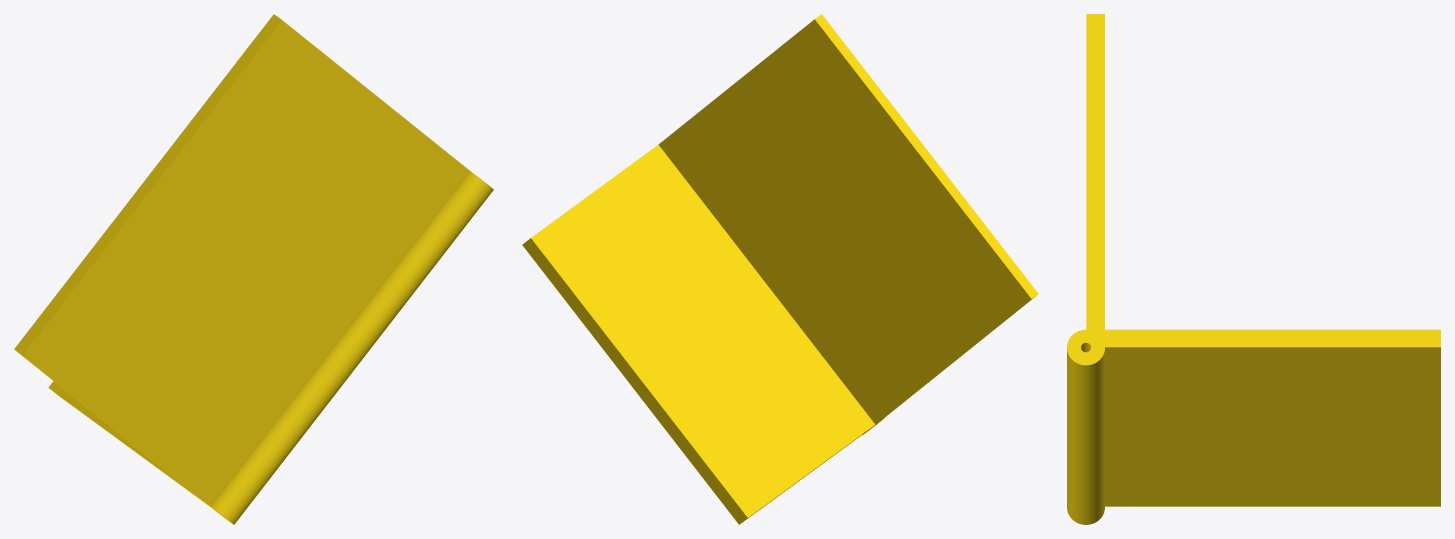
3 renders of one model, left to right at view 1: azimuth 30°, elevation 25°; view 2: azimuth 150°, elevation 25°; view 3: azimuth 270°, elevation 25°, orthographic. The views are drawn at different scales.
Parts seen in each view (by area): view 1: root_node; view 2: root_node; view 3: root_node.
Boxes of the visible parts, x1=… form: root_node: x1=14, y1=14, x2=493, y2=524; root_node: x1=522, y1=14, x2=1038, y2=524; root_node: x1=1067, y1=14, x2=1440, y2=524.
Bounding box in the file's own units: 0.0318 × 0.0318 × 0.02.
